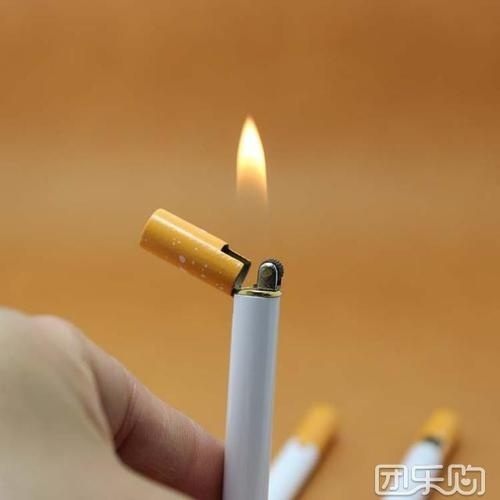fire: (234, 111, 269, 209)
